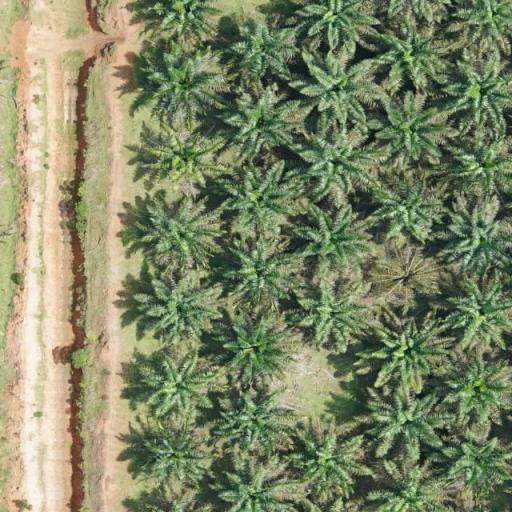Ganoderma: (379, 253, 435, 299)
